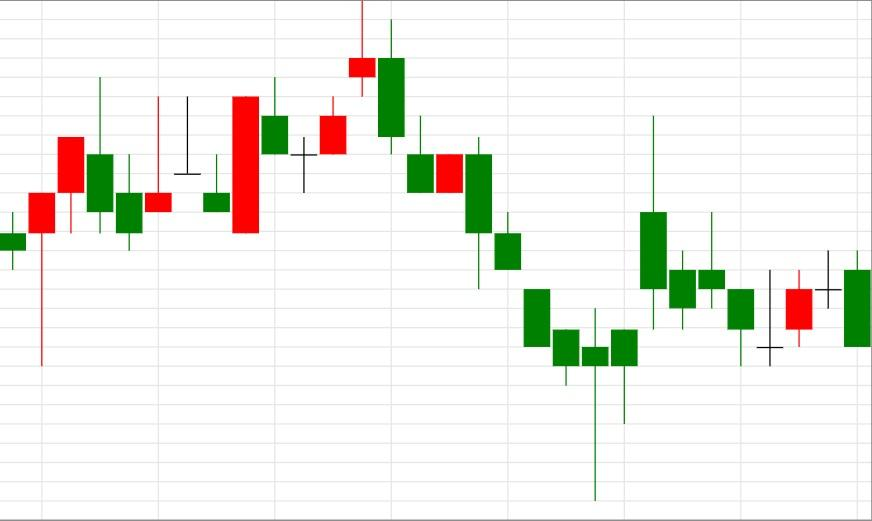shooting_star_fall: (231, 0, 377, 234)
